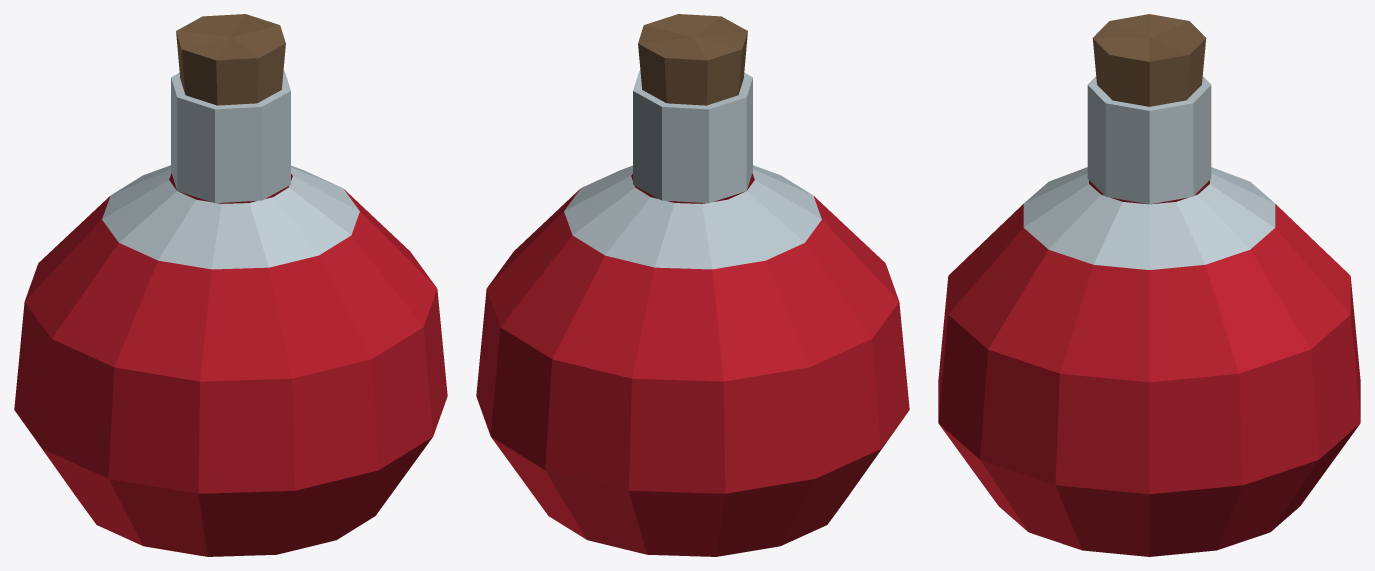
File: i_potion.glb
3 views of the same model, side by side, from view 1: azimuth 30°, elevation 25°; view 2: azimuth 150°, elevation 25°; view 3: azimuth 270°, elevation 25° (orthographic).
Parts seen in each view (by area): view 1: i_potion; view 2: i_potion; view 3: i_potion.
Boxes of the visible parts, x1,y1,x2,y2 form: i_potion: (14,14,447,556); i_potion: (476,14,909,556); i_potion: (938,14,1360,556).
Size of the model in its own units: 0.84 by 1 by 0.8189.
